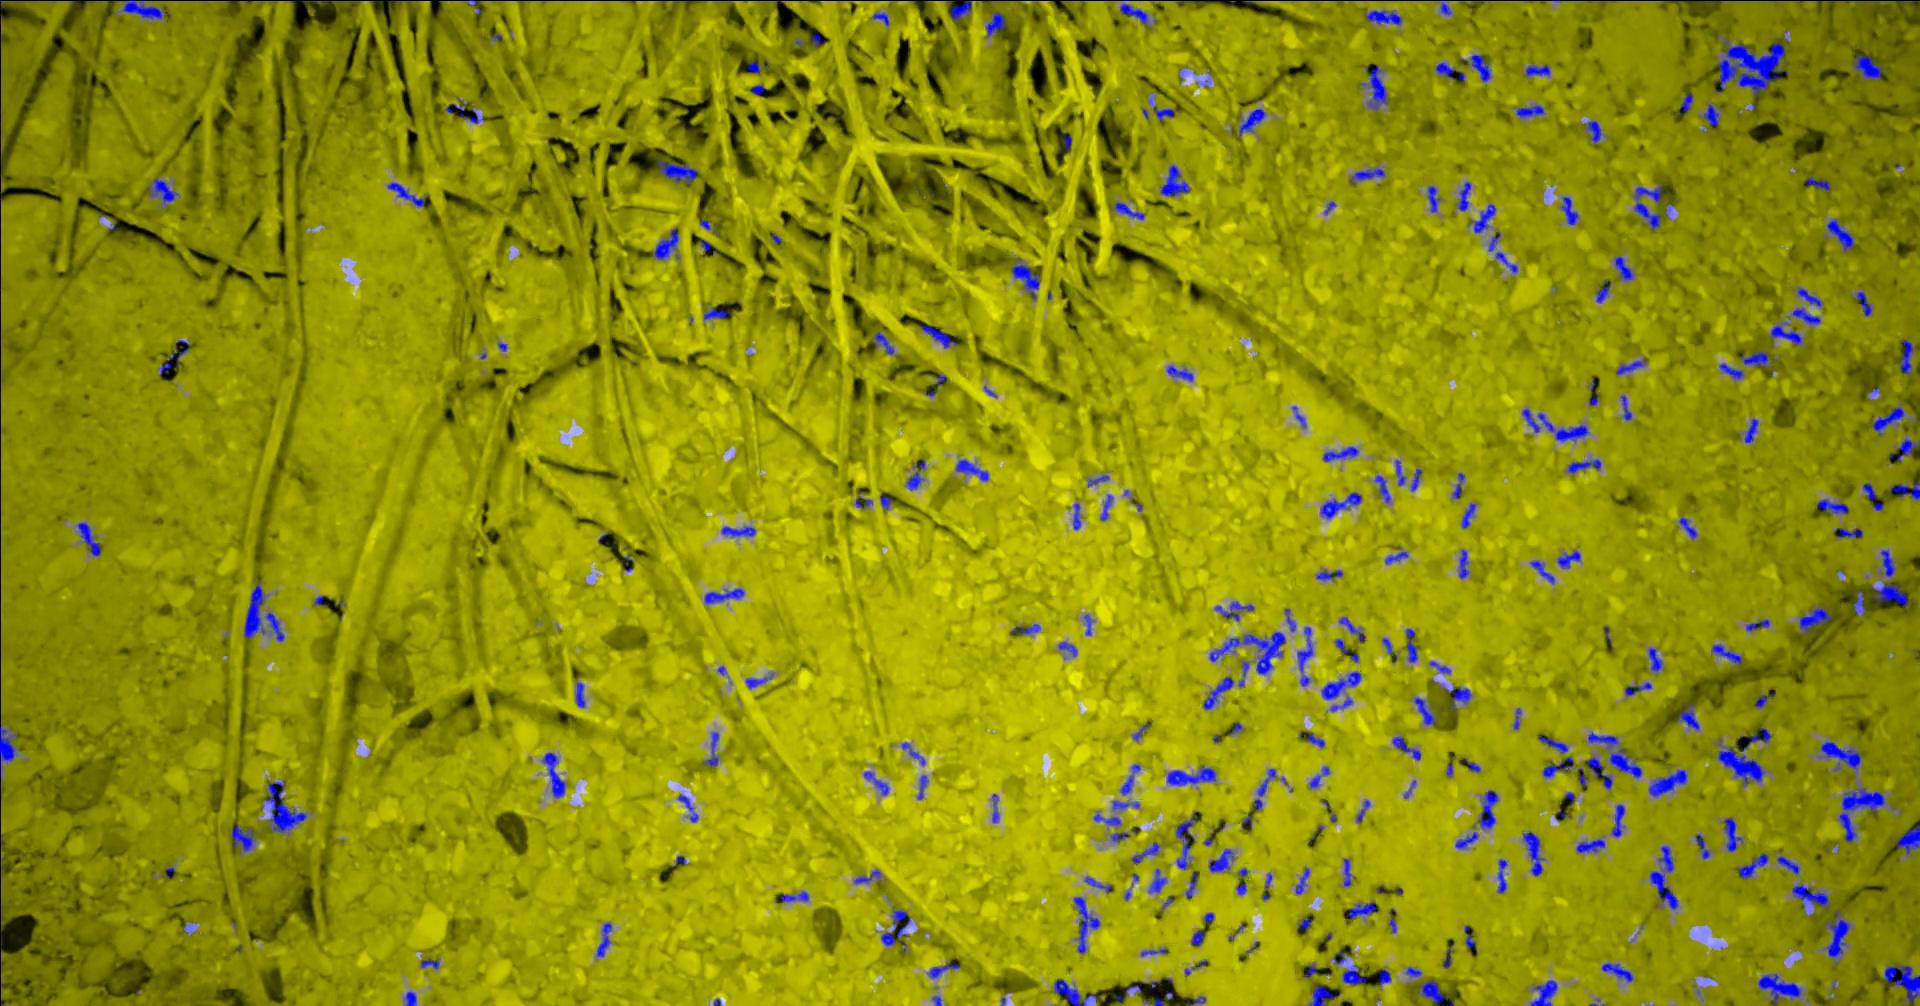ant: (1209, 631, 1285, 674), (1717, 727, 1770, 785), (1837, 788, 1884, 842), (1521, 408, 1589, 441), (264, 780, 306, 832), (1650, 845, 1677, 909), (1073, 895, 1098, 953), (1757, 973, 1801, 1005), (1823, 909, 1850, 960), (1883, 964, 1919, 1002), (1633, 185, 1663, 229), (1359, 64, 1387, 111), (243, 582, 265, 638), (1820, 741, 1862, 771), (1175, 810, 1196, 869), (1487, 232, 1517, 272), (1010, 258, 1039, 298), (105, 0, 166, 19), (1053, 978, 1096, 1005), (1321, 671, 1361, 699), (1648, 768, 1688, 796), (1321, 492, 1361, 518), (880, 909, 909, 945), (542, 752, 565, 796), (1203, 676, 1233, 709), (1608, 748, 1641, 779), (1166, 765, 1215, 785), (159, 339, 188, 373), (655, 159, 696, 183), (1252, 768, 1275, 810), (387, 180, 424, 206), (1826, 218, 1854, 251), (1870, 406, 1903, 434), (1297, 626, 1312, 686), (1523, 831, 1543, 875), (919, 324, 956, 348), (1161, 164, 1189, 196), (1799, 605, 1831, 633), (1586, 754, 1611, 789), (1790, 884, 1829, 907), (0, 725, 17, 777), (651, 227, 678, 259), (76, 522, 100, 556), (444, 102, 483, 123), (147, 177, 178, 203), (1477, 790, 1497, 829), (1870, 583, 1907, 605), (1468, 203, 1495, 232), (1737, 852, 1768, 878), (1769, 321, 1802, 344), (1214, 601, 1253, 620), (1542, 756, 1573, 779), (955, 459, 988, 480), (1238, 108, 1265, 135), (1119, 0, 1147, 25), (1464, 55, 1490, 83), (1529, 979, 1557, 1005), (1851, 55, 1881, 79), (1390, 735, 1420, 760), (1895, 824, 1919, 854), (1338, 616, 1365, 641), (1417, 979, 1444, 1005), (1443, 686, 1470, 710), (230, 823, 254, 851), (1888, 438, 1919, 460), (1723, 817, 1742, 851), (703, 588, 743, 605), (1676, 702, 1699, 730), (1895, 339, 1912, 375), (1862, 481, 1883, 511), (1120, 763, 1140, 794), (1308, 984, 1338, 1005), (1208, 848, 1234, 871), (1710, 644, 1742, 663), (1365, 9, 1401, 25), (1343, 901, 1377, 918), (863, 771, 888, 795), (905, 460, 924, 490), (1529, 560, 1554, 583), (1601, 962, 1632, 981), (1415, 697, 1435, 725), (1350, 168, 1384, 184), (1559, 196, 1578, 225), (1890, 480, 1919, 499), (902, 741, 924, 765), (985, 11, 1007, 37), (1112, 202, 1145, 218), (1738, 351, 1774, 366), (1322, 446, 1357, 461), (1587, 730, 1618, 748), (1537, 735, 1567, 753), (677, 794, 697, 821), (1131, 842, 1158, 862), (596, 922, 611, 956), (265, 612, 283, 641), (1796, 287, 1822, 306), (1816, 498, 1849, 513), (928, 962, 959, 978), (703, 730, 717, 766), (1342, 964, 1366, 984), (1790, 307, 1820, 324), (950, 0, 971, 22), (872, 332, 893, 354), (1567, 459, 1600, 473), (745, 672, 773, 688), (1614, 255, 1633, 279), (1166, 365, 1192, 381), (1374, 475, 1390, 502), (1298, 730, 1324, 747), (1404, 627, 1417, 662), (1583, 119, 1601, 144), (1148, 868, 1166, 892), (1615, 359, 1646, 373), (1879, 547, 1895, 575), (1718, 362, 1743, 379), (1611, 803, 1624, 836), (1677, 517, 1697, 539), (1457, 180, 1470, 210), (1702, 103, 1719, 126), (1557, 550, 1580, 568), (1455, 831, 1478, 848), (1777, 856, 1799, 874), (1084, 876, 1111, 892), (1595, 278, 1610, 304), (1855, 291, 1870, 316), (1460, 503, 1476, 528), (1754, 690, 1775, 708), (1435, 62, 1458, 79), (1384, 547, 1407, 564), (1624, 681, 1651, 695), (1295, 868, 1309, 894), (853, 869, 880, 883), (1515, 104, 1544, 117), (1647, 647, 1662, 671), (1576, 840, 1604, 852), (721, 526, 756, 536), (1010, 622, 1040, 634), (1330, 696, 1352, 711), (1497, 859, 1507, 893), (1093, 813, 1120, 826), (1185, 871, 1197, 898), (1806, 177, 1830, 191), (1743, 418, 1757, 442), (1851, 591, 1865, 615), (1695, 833, 1709, 857), (1832, 527, 1862, 539), (1451, 473, 1464, 498), (1100, 494, 1112, 520), (780, 890, 808, 902), (1464, 925, 1476, 953), (1131, 723, 1149, 741), (1745, 619, 1769, 631), (1427, 185, 1439, 212), (1316, 569, 1342, 580), (1677, 93, 1691, 114), (1356, 800, 1370, 822), (1458, 549, 1468, 578), (1525, 64, 1550, 75), (698, 238, 717, 253), (1153, 105, 1173, 119), (1261, 873, 1271, 901), (703, 307, 728, 319), (1087, 474, 1109, 486), (1429, 661, 1450, 673), (1620, 394, 1630, 420), (1238, 661, 1248, 687), (1057, 641, 1076, 655), (1410, 467, 1421, 490), (1284, 608, 1295, 631), (575, 682, 585, 708), (917, 775, 927, 799), (1396, 459, 1404, 485), (1112, 800, 1139, 809), (990, 793, 998, 822), (1343, 857, 1351, 887), (872, 11, 888, 25), (1335, 638, 1349, 653), (1297, 917, 1312, 931), (1464, 760, 1481, 772), (855, 495, 872, 507), (1577, 768, 1586, 791), (1439, 0, 1451, 15), (1072, 503, 1079, 528), (1190, 930, 1203, 945), (1140, 948, 1166, 955), (420, 959, 439, 969), (1378, 969, 1390, 984), (1059, 133, 1070, 150), (1144, 996, 1164, 1005), (810, 32, 823, 46), (879, 495, 891, 509), (404, 991, 417, 1005), (1443, 948, 1451, 967), (1404, 967, 1421, 977), (1083, 614, 1091, 635), (745, 61, 759, 72), (750, 84, 764, 95), (1110, 832, 1128, 841), (1189, 996, 1205, 1005), (1854, 0, 1919, 1), (1662, 0, 1722, 1), (301, 0, 359, 1)
